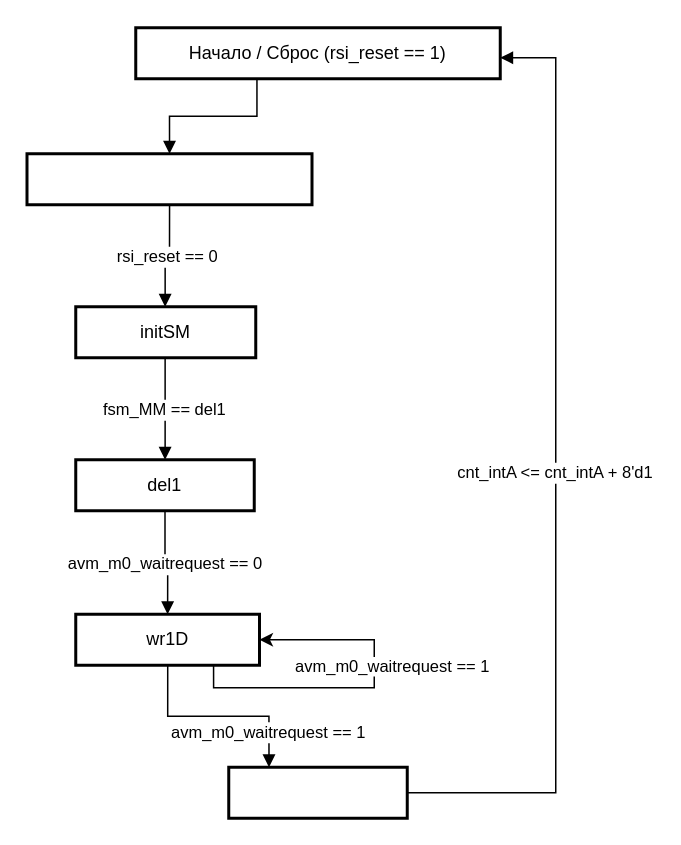
Image size: 681x845. Some labels were removed from this diagram. Here are the shapes that lost their labels. From the top down, the box of each, then its label:
(25, 152, 313, 206): Инициализация FSM
(226, 765, 408, 819): del2
